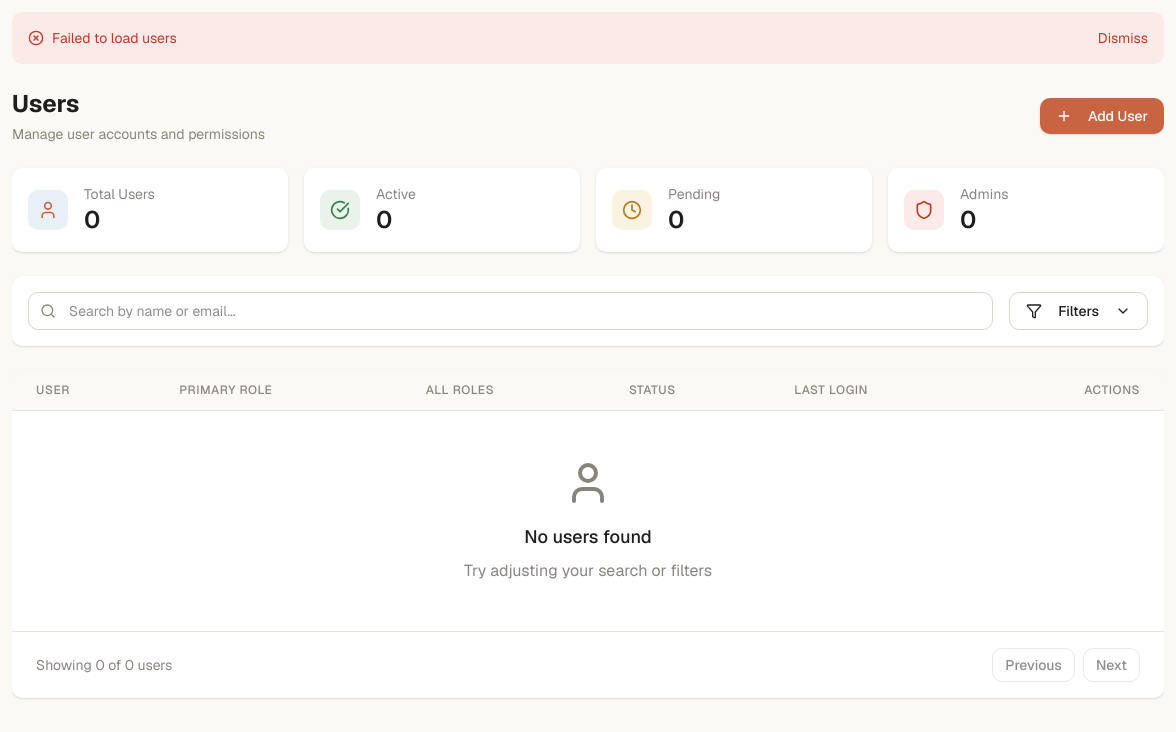
UsersPage › Error State › allows dismissing error
The image size is (1176, 732).
Expected: the text "Failed to load users" is shown, [52,29,177,47]
Step 1. Click the button "Dismiss" → point(1123, 38), box [1098,28,1148,48]
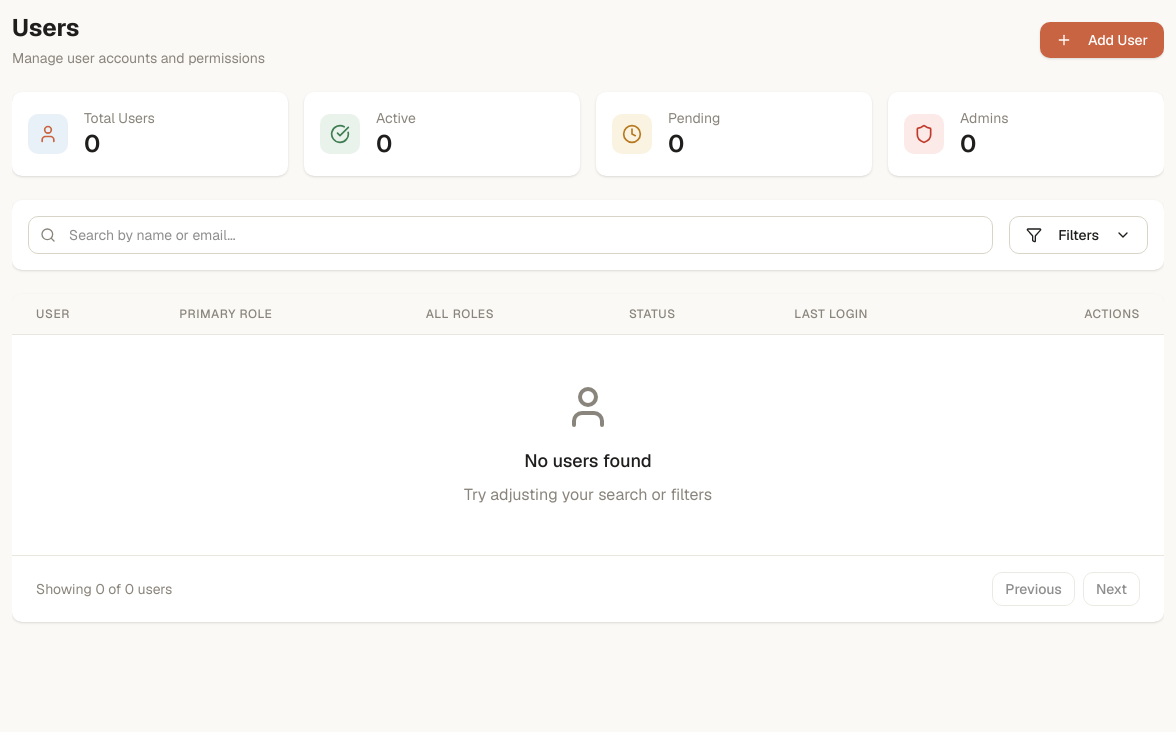
Expected: the text "Failed to load users" is gone
